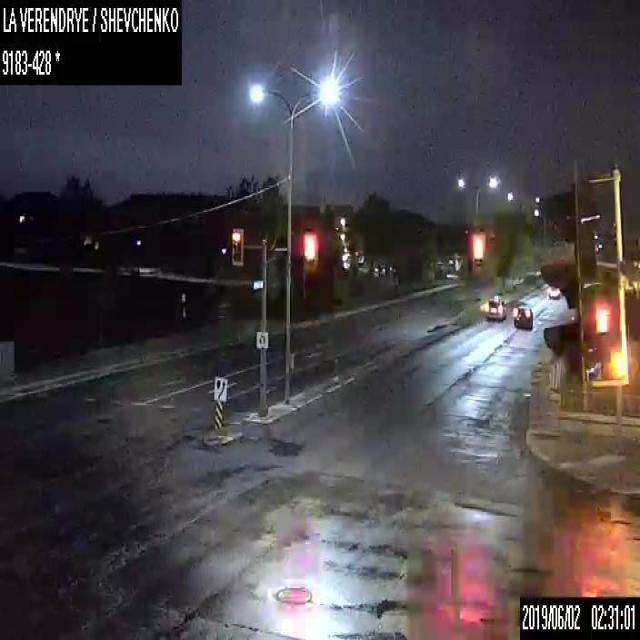vehicle: (485, 296, 506, 320), (513, 305, 532, 328), (548, 286, 560, 298)
